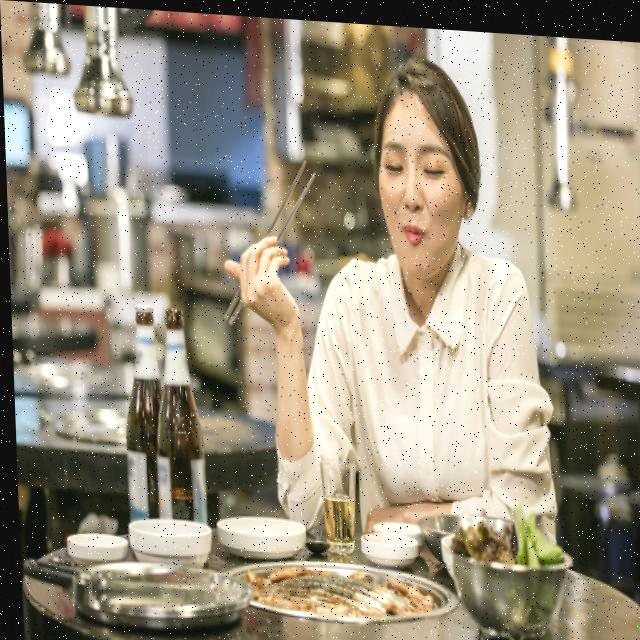eating-person: (199, 23, 589, 585)
